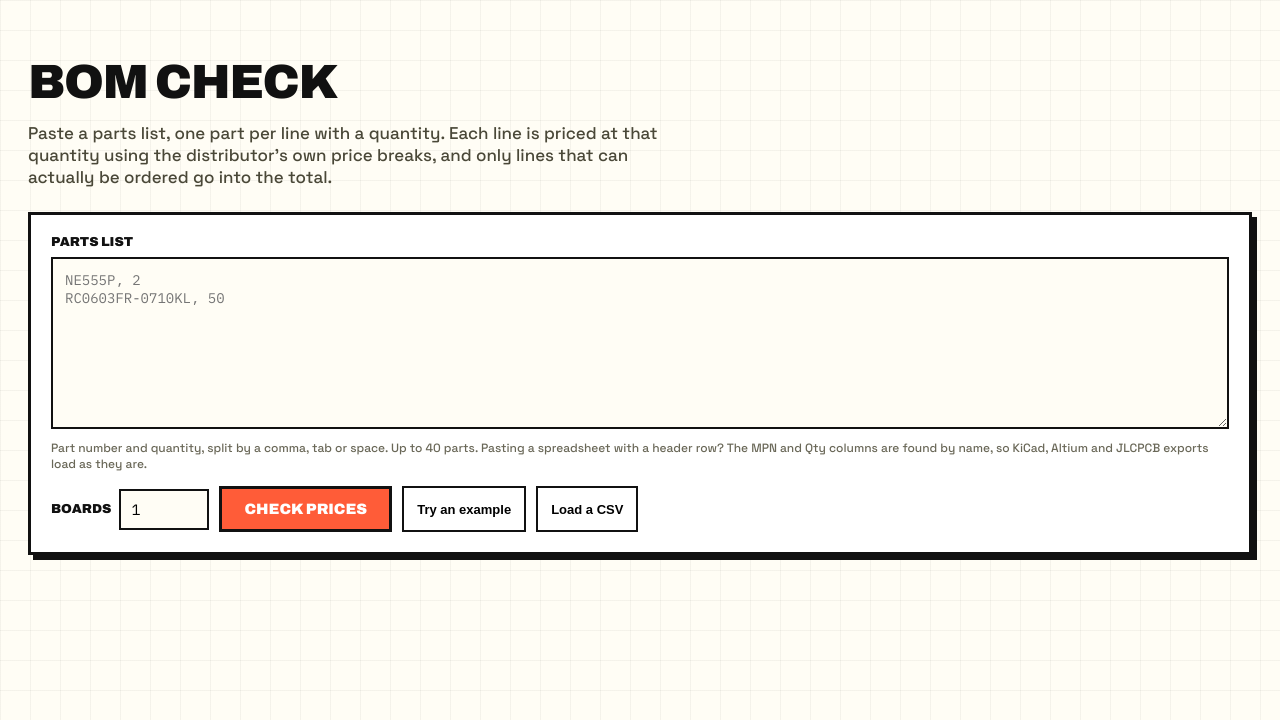
Test: a shared link keeps the per board list and the board count apart
Replace the text in the number field labelled "BOARDS" with "4" at coordinates (164, 509), box [119, 488, 209, 530]
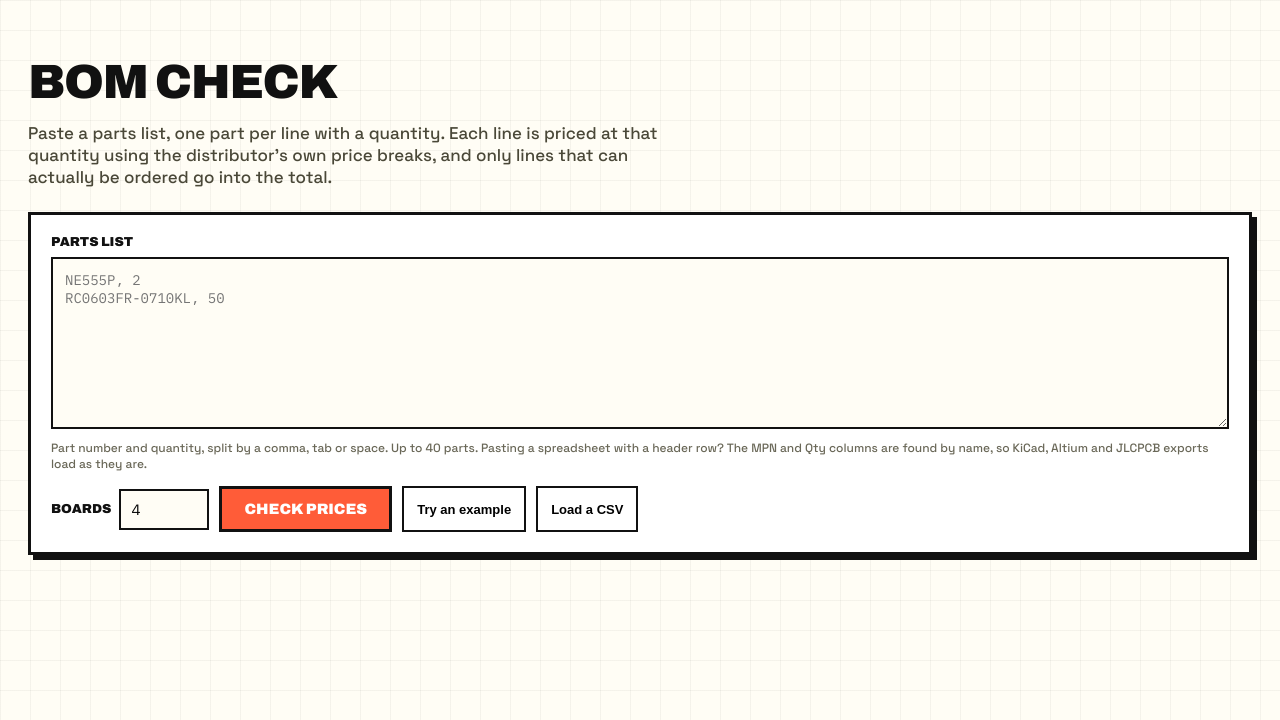
Type "NE555P 5" into the text box labelled "PARTS LIST" at coordinates (640, 343), box [51, 257, 1229, 429]
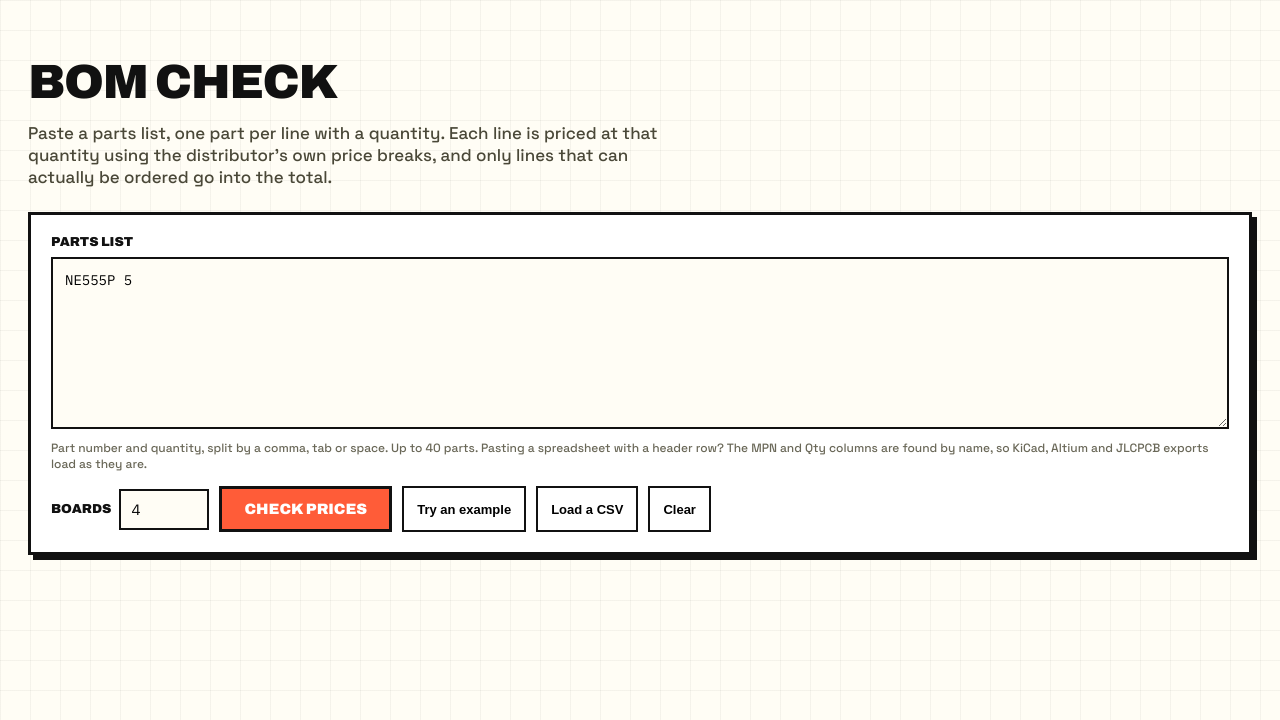
Click the button "CHECK PRICES" at coordinates (306, 509), box [219, 486, 392, 532]
(page scrolled)
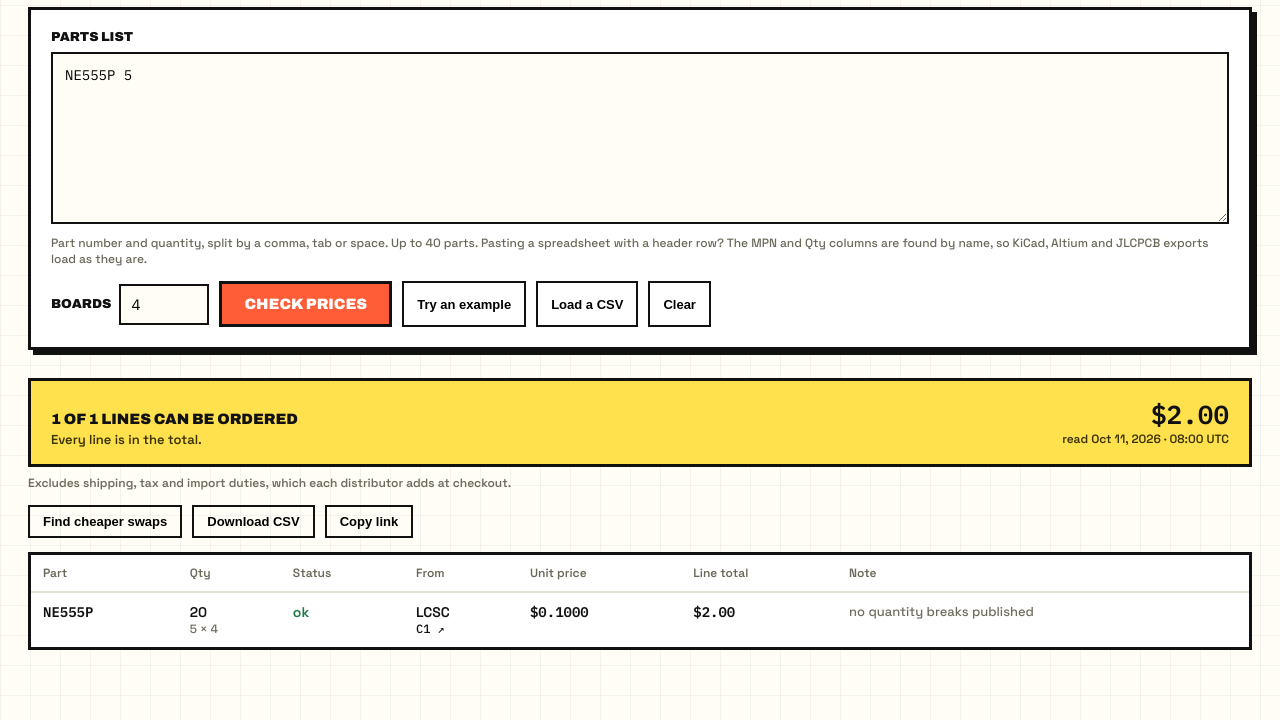
expect the button "Copy link" is shown: met
Click the button "Copy link" at coordinates (369, 522), box [325, 505, 413, 538]
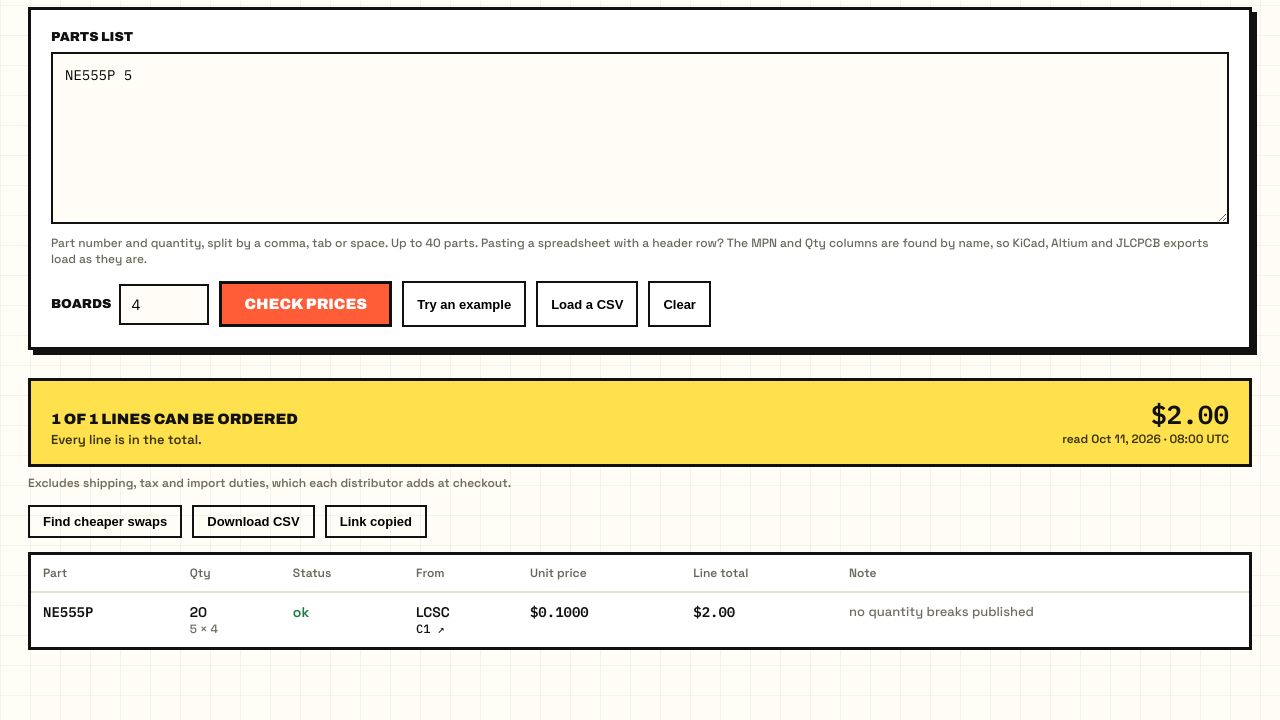
expect the button "Link copied" is shown: met, box [325, 505, 427, 538]
